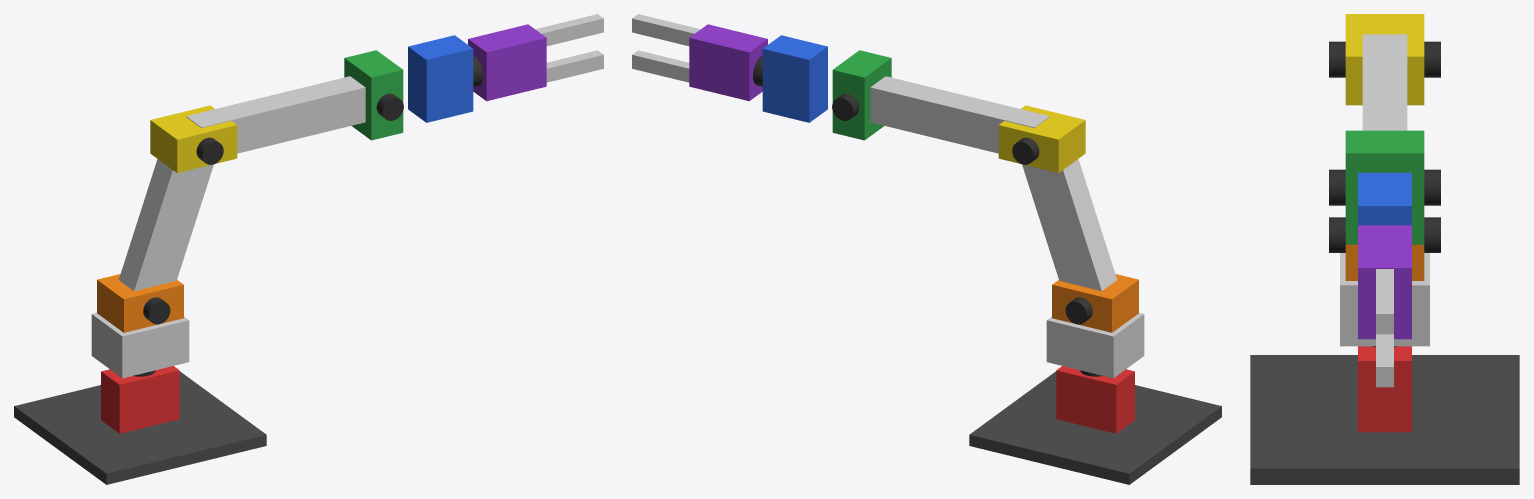
The picture shows the model from 3 angles, left to right: view 1: azimuth 30°, elevation 25°; view 2: azimuth 150°, elevation 25°; view 3: azimuth 270°, elevation 25°; orthographic projection. The views are drawn at different scales.
Visible parts, largest first — view 1: base_plate, forearm, upper_arm, servo5_wrist_roll, shoulder_bracket, servo6_gripper, servo1_base_rotation, servo3_elbow, servo4_wrist_flex, servo2_shoulder, jaw_fixed, jaw_moving; view 2: base_plate, forearm, upper_arm, servo5_wrist_roll, shoulder_bracket, servo6_gripper, servo1_base_rotation, servo3_elbow, servo4_wrist_flex, servo2_shoulder, jaw_fixed, jaw_moving; view 3: base_plate, servo4_wrist_flex, servo6_gripper, forearm, servo3_elbow, servo1_base_rotation, shoulder_bracket, servo5_wrist_roll, joint3_elbow_axis, joint4_wrist_flex_axis, joint2_shoulder_axis, jaw_fixed (+2 smaller).
Boxes of the visible parts, x1=… form: base_plate: x1=14, y1=371, x2=266, y2=484; forearm: x1=186, y1=76, x2=365, y2=153; upper_arm: x1=118, y1=159, x2=213, y2=290; servo5_wrist_roll: x1=408, y1=35, x2=473, y2=122; shoulder_bracket: x1=91, y1=312, x2=189, y2=378; servo6_gripper: x1=468, y1=24, x2=546, y2=101; servo1_base_rotation: x1=101, y1=366, x2=179, y2=433; servo3_elbow: x1=150, y1=105, x2=237, y2=173; servo4_wrist_flex: x1=344, y1=50, x2=403, y2=140; servo2_shoulder: x1=97, y1=274, x2=183, y2=332; jaw_fixed: x1=535, y1=14, x2=603, y2=46; jaw_moving: x1=546, y1=50, x2=603, y2=82; base_plate: x1=969, y1=371, x2=1221, y2=484; forearm: x1=870, y1=76, x2=1049, y2=153; upper_arm: x1=1022, y1=159, x2=1117, y2=290; servo5_wrist_roll: x1=762, y1=35, x2=827, y2=122; shoulder_bracket: x1=1046, y1=312, x2=1144, y2=378; servo6_gripper: x1=689, y1=24, x2=767, y2=101; servo1_base_rotation: x1=1056, y1=366, x2=1134, y2=433; servo3_elbow: x1=998, y1=105, x2=1085, y2=173; servo4_wrist_flex: x1=832, y1=50, x2=891, y2=140; servo2_shoulder: x1=1052, y1=274, x2=1138, y2=332; jaw_fixed: x1=632, y1=14, x2=700, y2=46; jaw_moving: x1=632, y1=50, x2=689, y2=82; base_plate: x1=1250, y1=355, x2=1519, y2=484; servo4_wrist_flex: x1=1345, y1=130, x2=1424, y2=244; servo6_gripper: x1=1358, y1=225, x2=1411, y2=339; forearm: x1=1362, y1=34, x2=1407, y2=130; servo3_elbow: x1=1345, y1=14, x2=1424, y2=105; servo1_base_rotation: x1=1358, y1=346, x2=1411, y2=432; shoulder_bracket: x1=1340, y1=253, x2=1429, y2=346; servo5_wrist_roll: x1=1358, y1=172, x2=1411, y2=225; joint3_elbow_axis: x1=1329, y1=41, x2=1440, y2=77; joint4_wrist_flex_axis: x1=1329, y1=169, x2=1440, y2=205; joint2_shoulder_axis: x1=1329, y1=217, x2=1440, y2=252; jaw_fixed: x1=1376, y1=269, x2=1393, y2=334.
Size of the model in its own units: 405 by 223 by 120.
